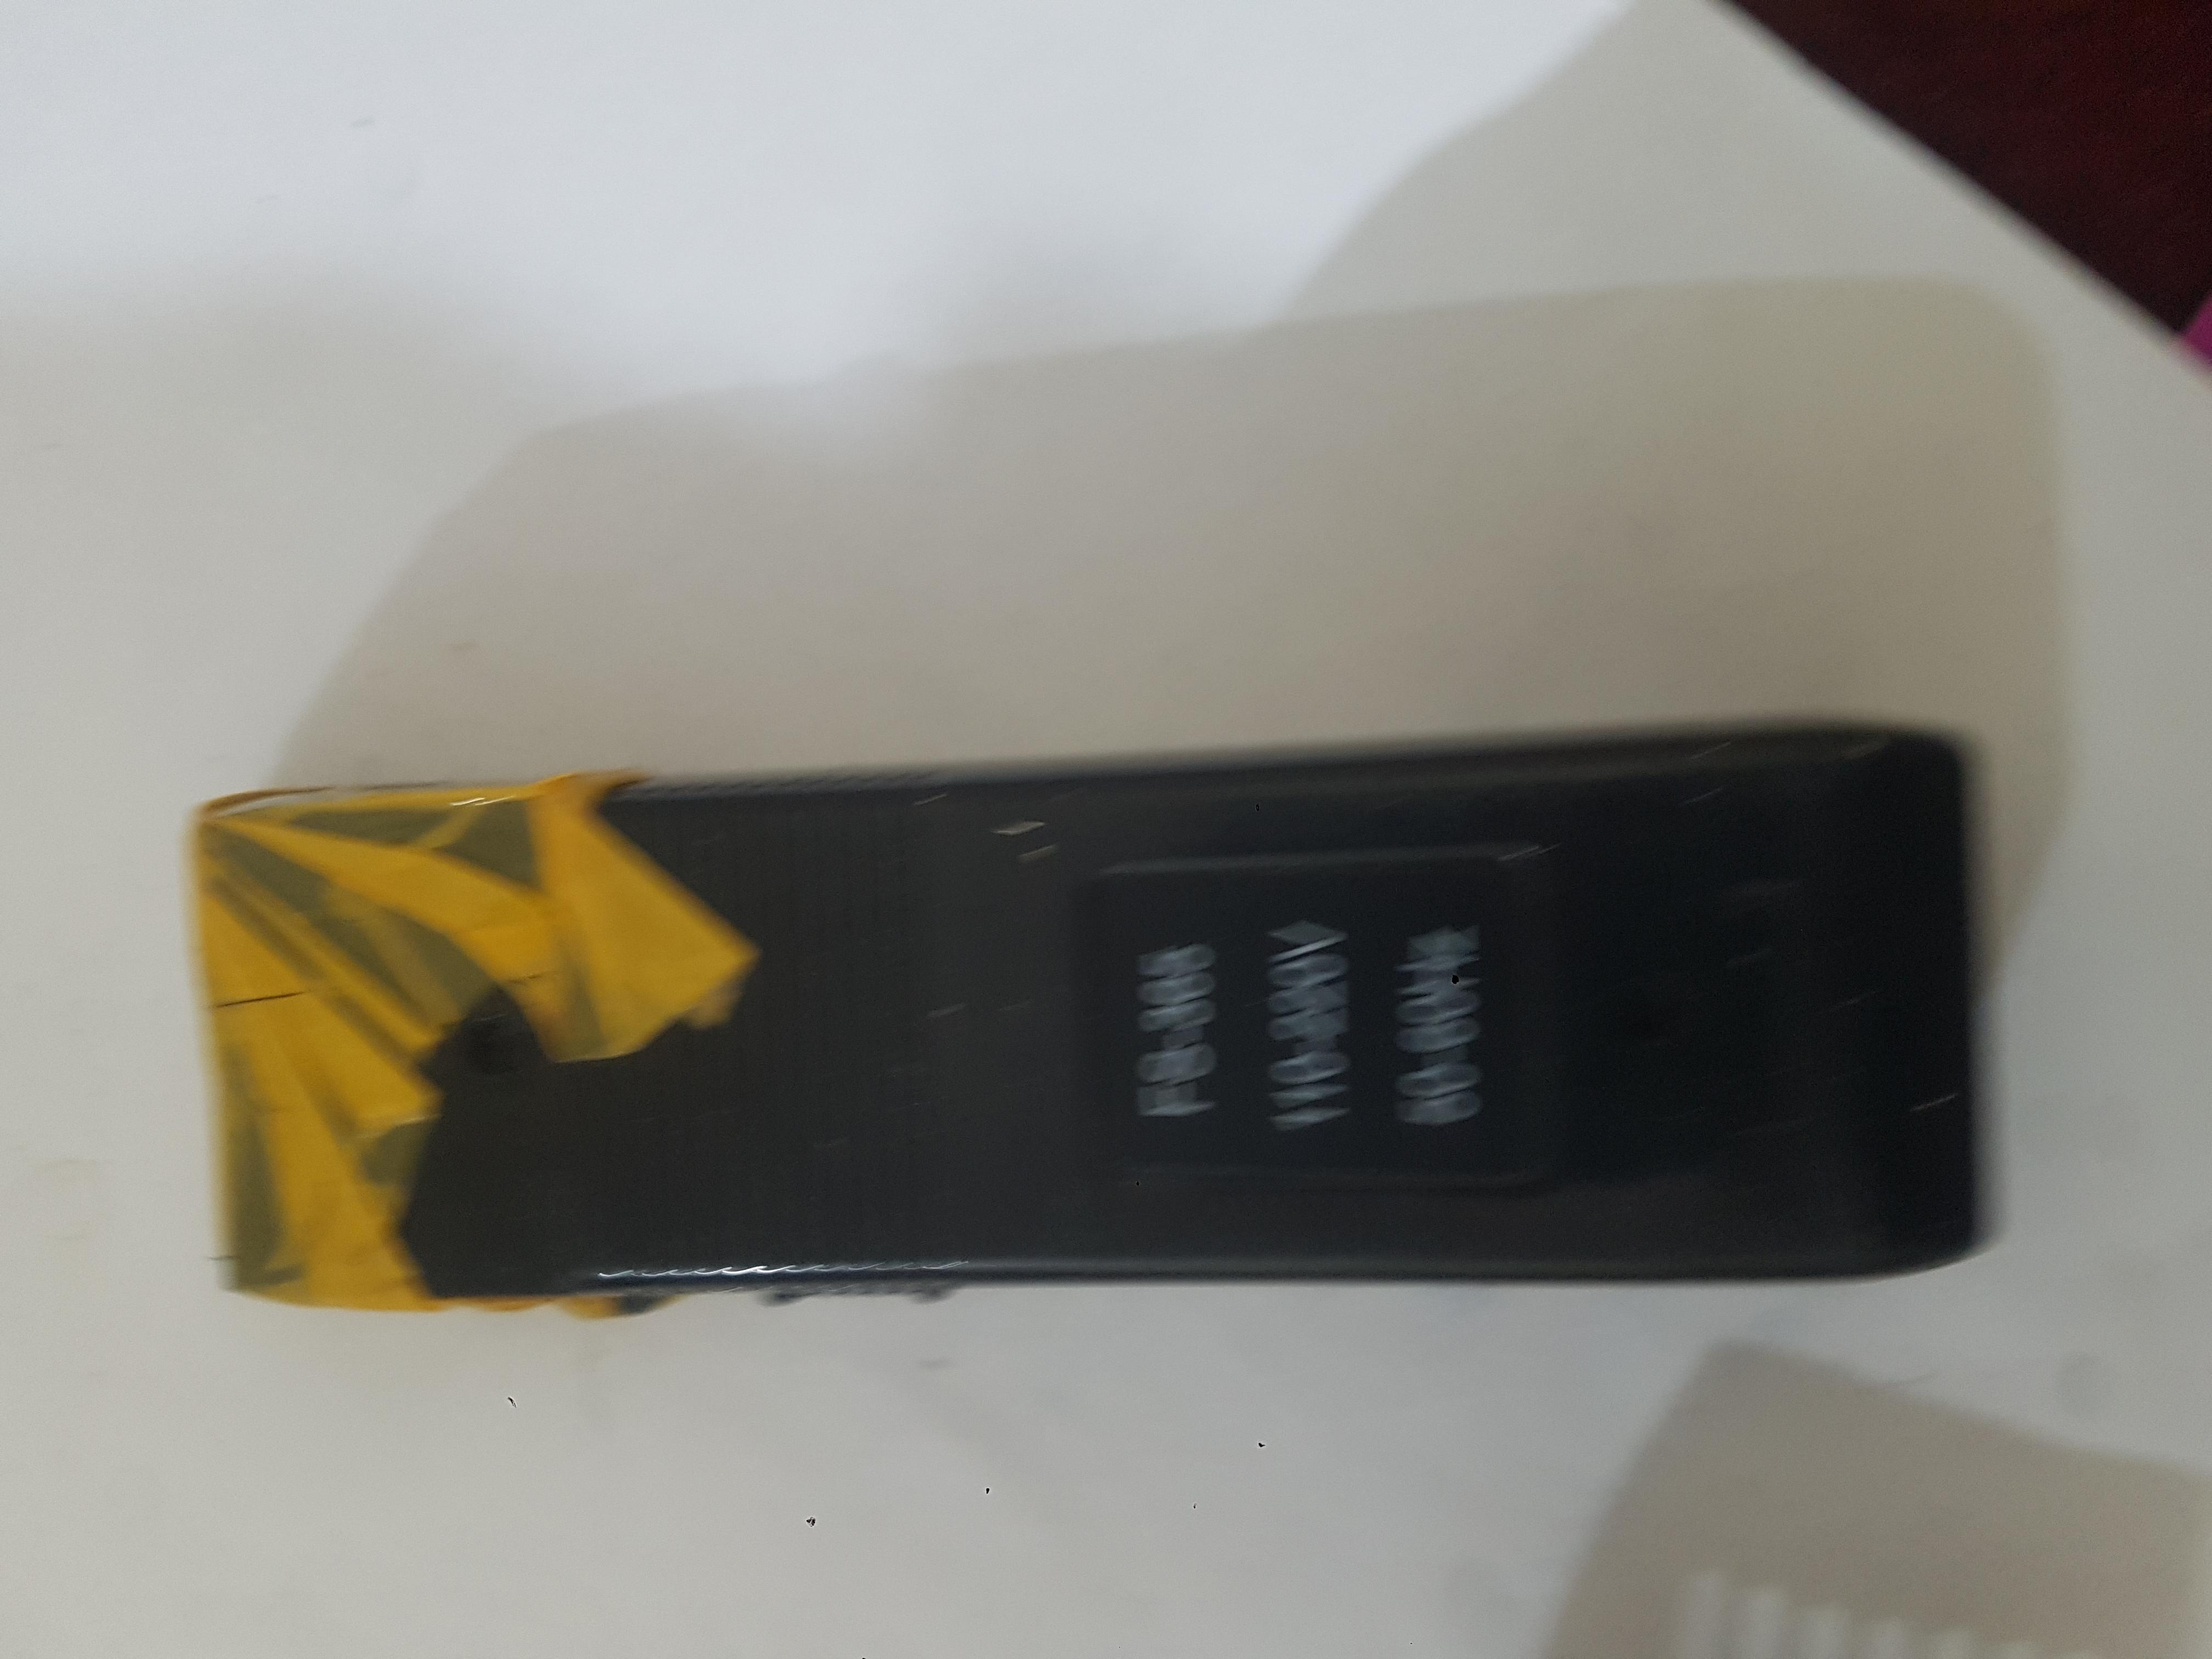electronic: (181, 716, 2008, 1345)
